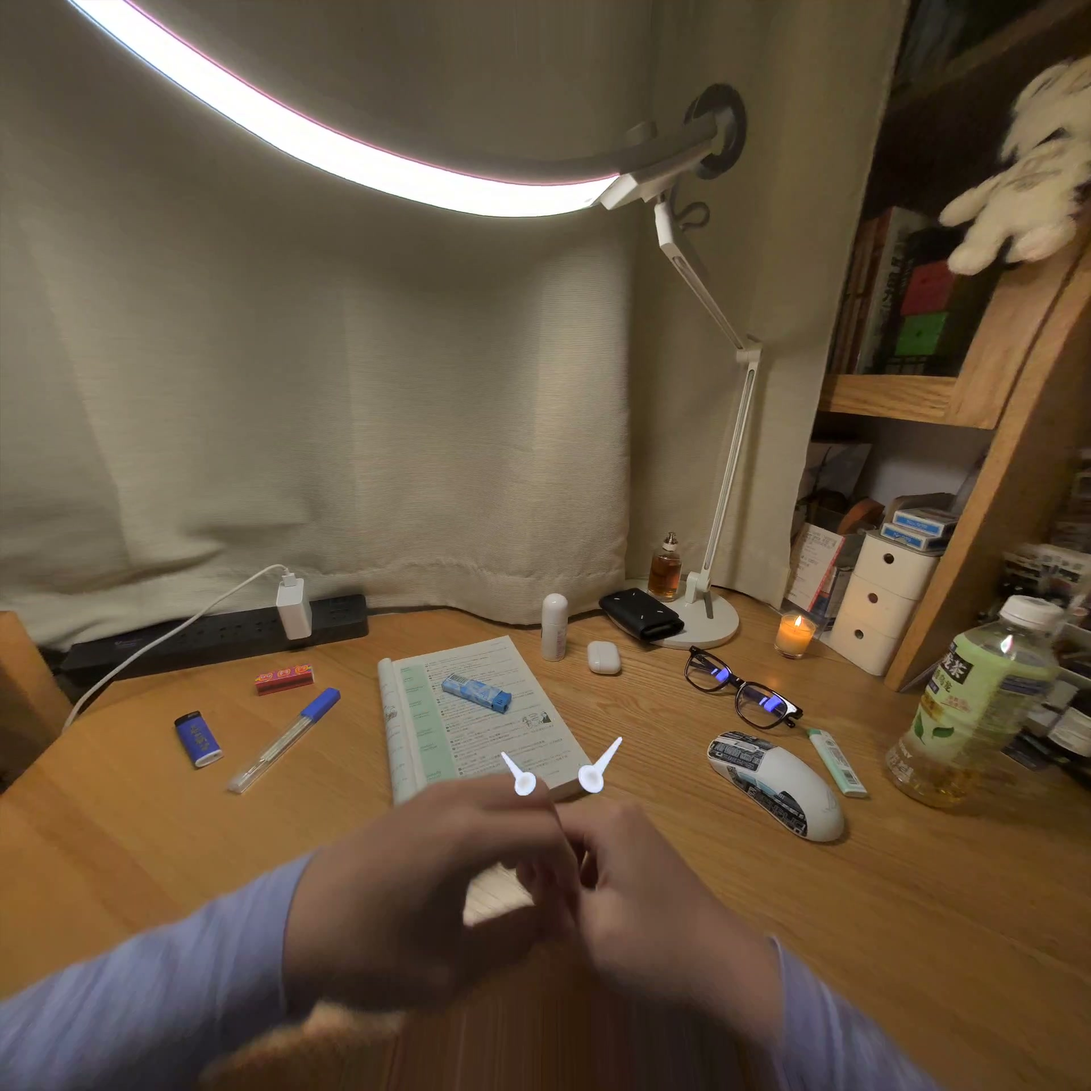lighter: (442, 674, 511, 713)
